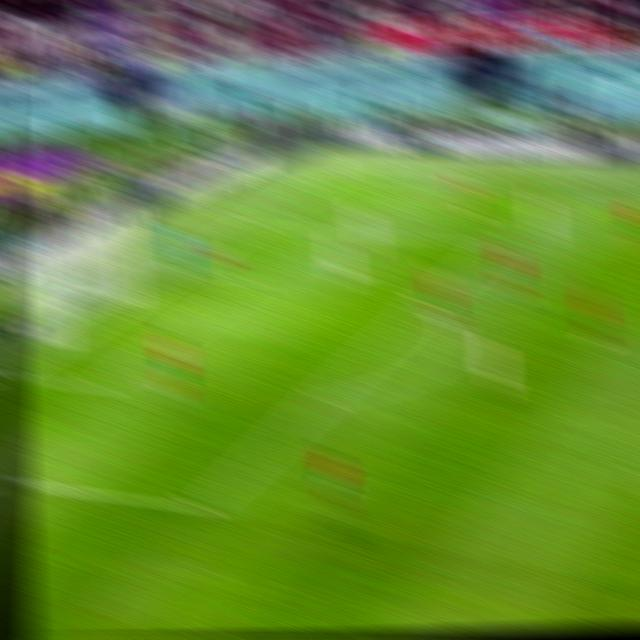bigarea_bottom_inner: (185, 494, 217, 522)
bigarea_top_inner: (483, 236, 510, 255)
bigarea_top_outter: (243, 215, 267, 230)
bottom_arc_area_intersection: (309, 389, 335, 408)
corner: (324, 168, 347, 181)
smallarea_bottom_inner: (86, 373, 115, 399)
smallarea_top_inner: (243, 271, 269, 289)
smallarea_top_outter: (166, 263, 187, 279)
top_arc_area_intersection: (412, 297, 437, 316)
